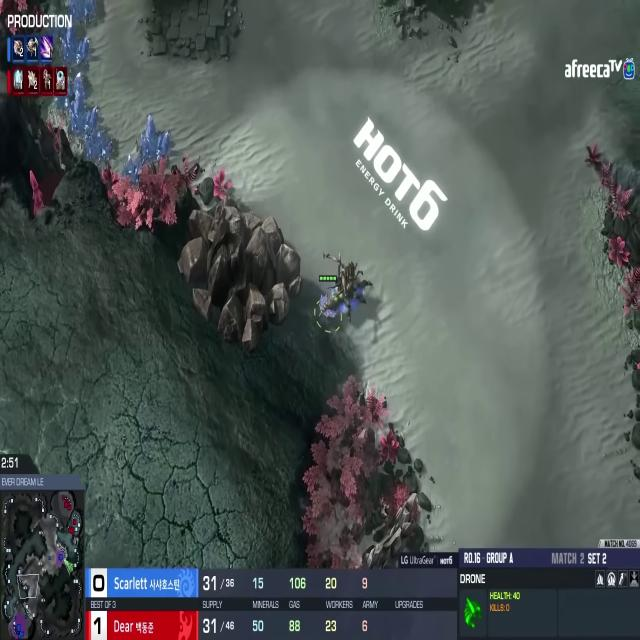drone: (314, 288, 340, 325)
queen: (318, 247, 375, 326)
